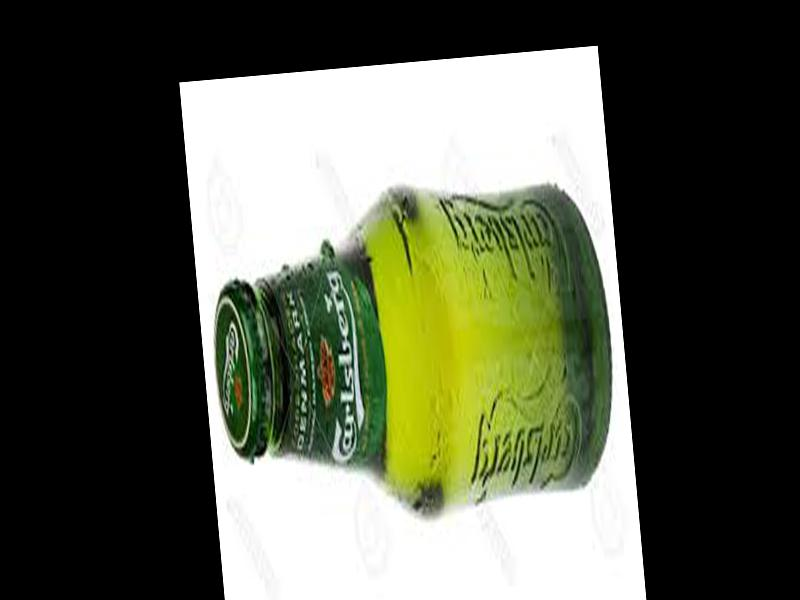Beer: (200, 172, 626, 538)
